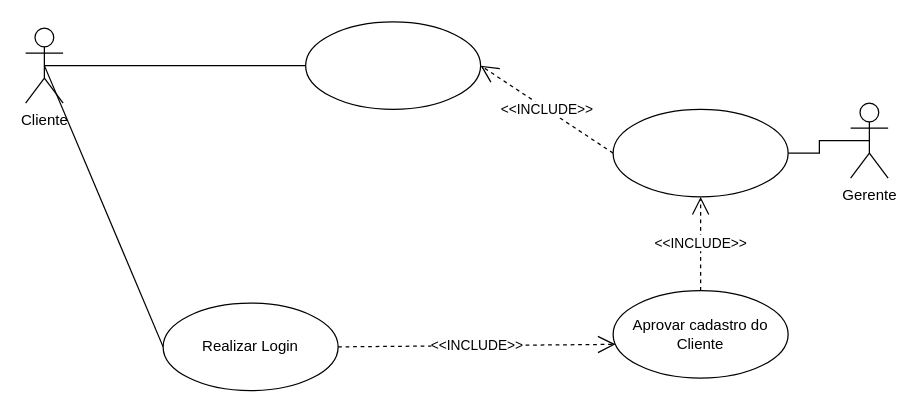
This 918x413 diagram has some shape labels left out. Each missing label, with the centre of its shape:
Realiza o Cadastro no Sistema da Pizzaria: [392,65]
Verifica Credenciais do Usuário: [700,152]
